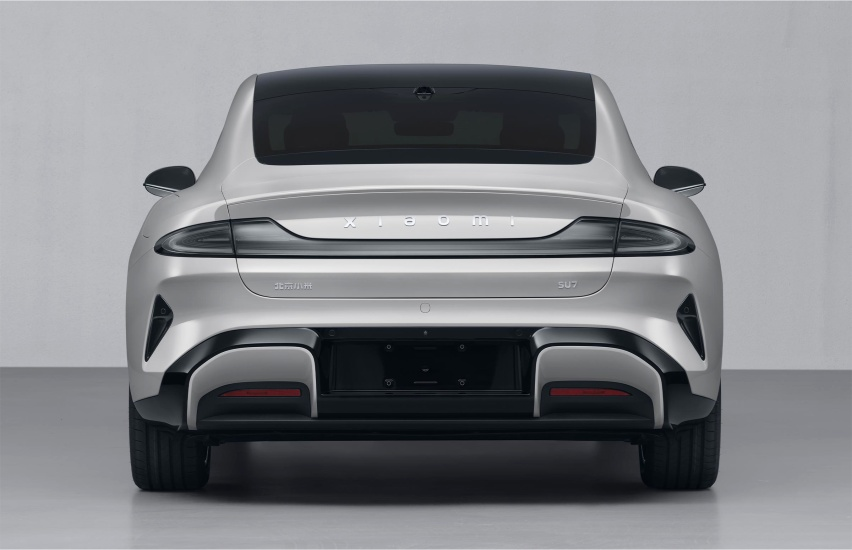su7: (133, 57, 717, 492)
